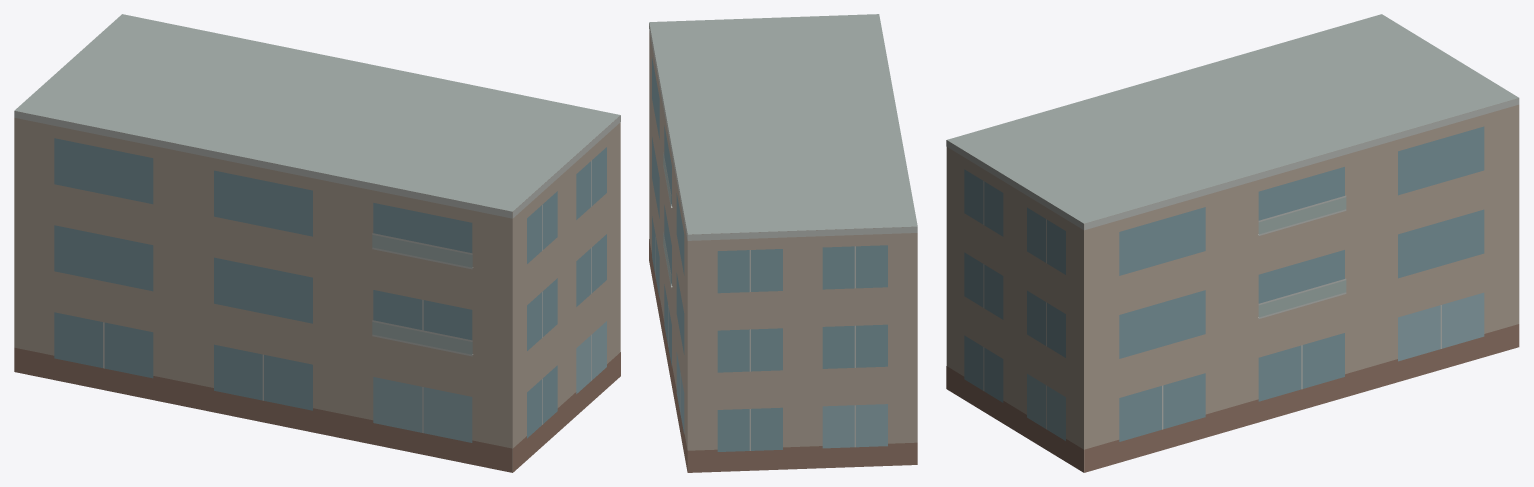
The model's file is survey-upis-32687691.glb.
3 views of the same model, side by side, from view 1: azimuth 30°, elevation 25°; view 2: azimuth 150°, elevation 25°; view 3: azimuth 270°, elevation 25° (orthographic). The views are drawn at different scales.
Visible parts, largest first — view 1: survey-upis-32687691.tmp; view 2: survey-upis-32687691.tmp; view 3: survey-upis-32687691.tmp.
Part boxes in pixels (box(x1,y1,x2,y2)): survey-upis-32687691.tmp: box(14, 14, 620, 472); survey-upis-32687691.tmp: box(649, 14, 917, 472); survey-upis-32687691.tmp: box(946, 14, 1519, 472).
Bounding box in the file's own units: 16.53 × 9.15 × 19.07.
